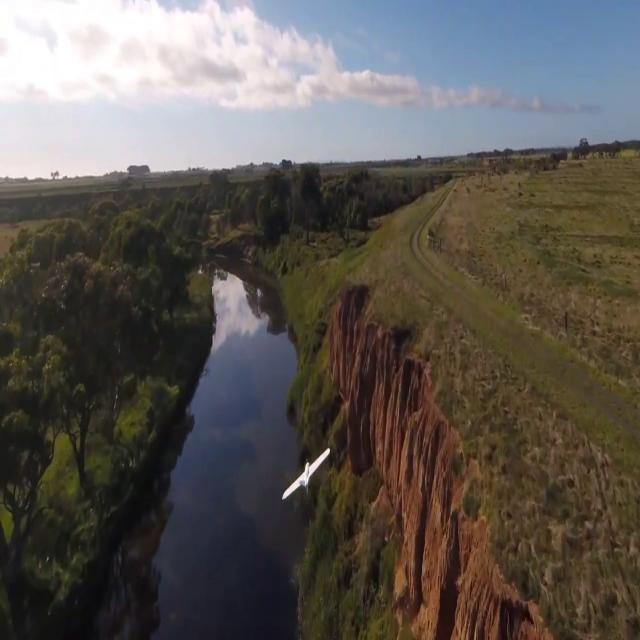iha: (284, 448, 330, 510)
